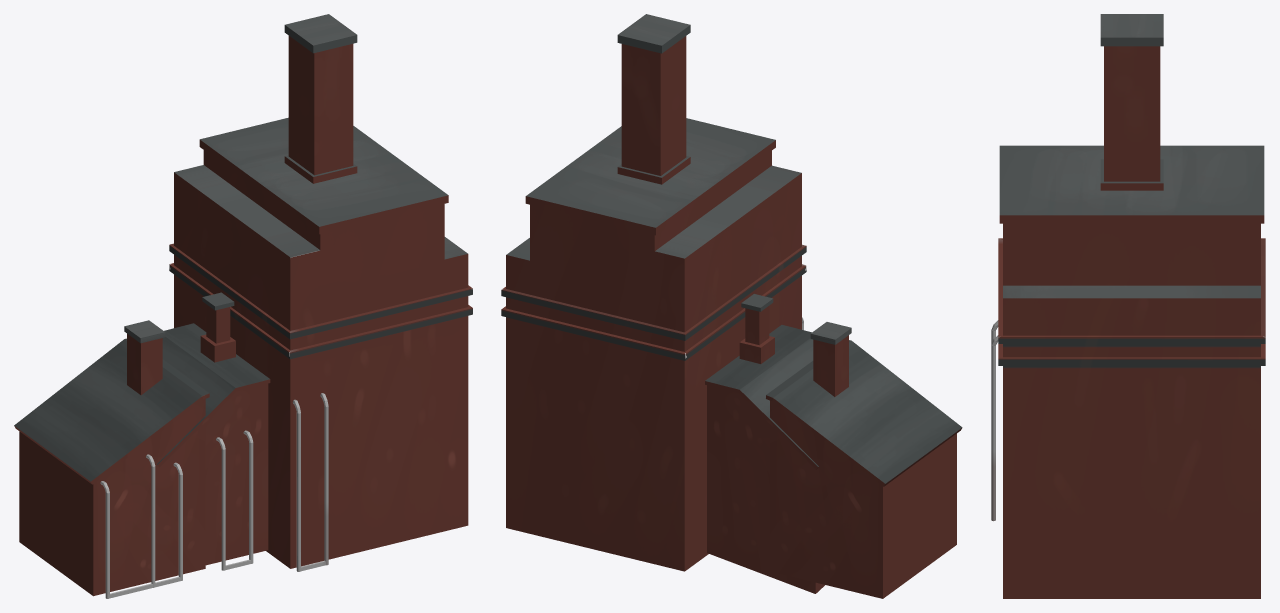
Rendered from Factory_without_wall.FBX.
The picture shows the model from 3 angles, left to right: view 1: azimuth 30°, elevation 25°; view 2: azimuth 150°, elevation 25°; view 3: azimuth 270°, elevation 25°; orthographic projection. The views are drawn at different scales.
Visible parts, largest first — view 1: factory; view 2: factory; view 3: factory.
Part boxes in pixels (<box>): factory: <box>14,14,472,598</box>; factory: <box>501,14,962,598</box>; factory: <box>991,14,1265,598</box>.
Size of the model in its own units: 22.88 by 13.65 by 29.57.
